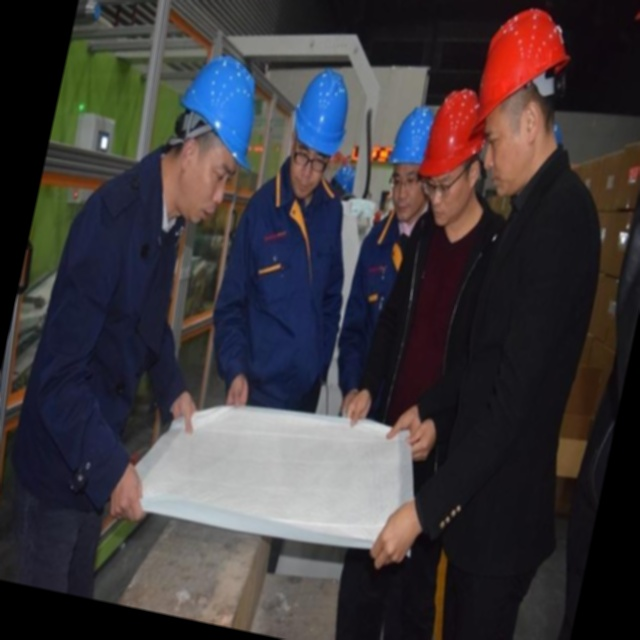Con_Casco: (154, 39, 274, 233), (464, 2, 578, 196), (279, 65, 358, 196)
